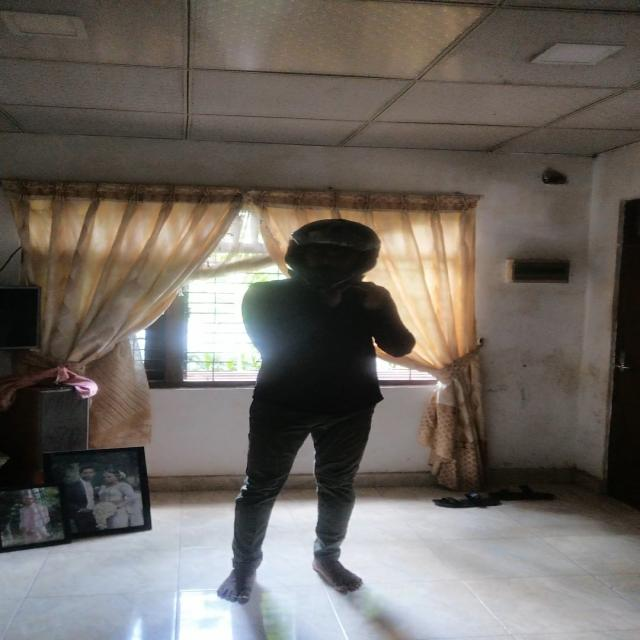Helmet_Wearer: (250, 217, 394, 296)
Person: (222, 228, 430, 606)
